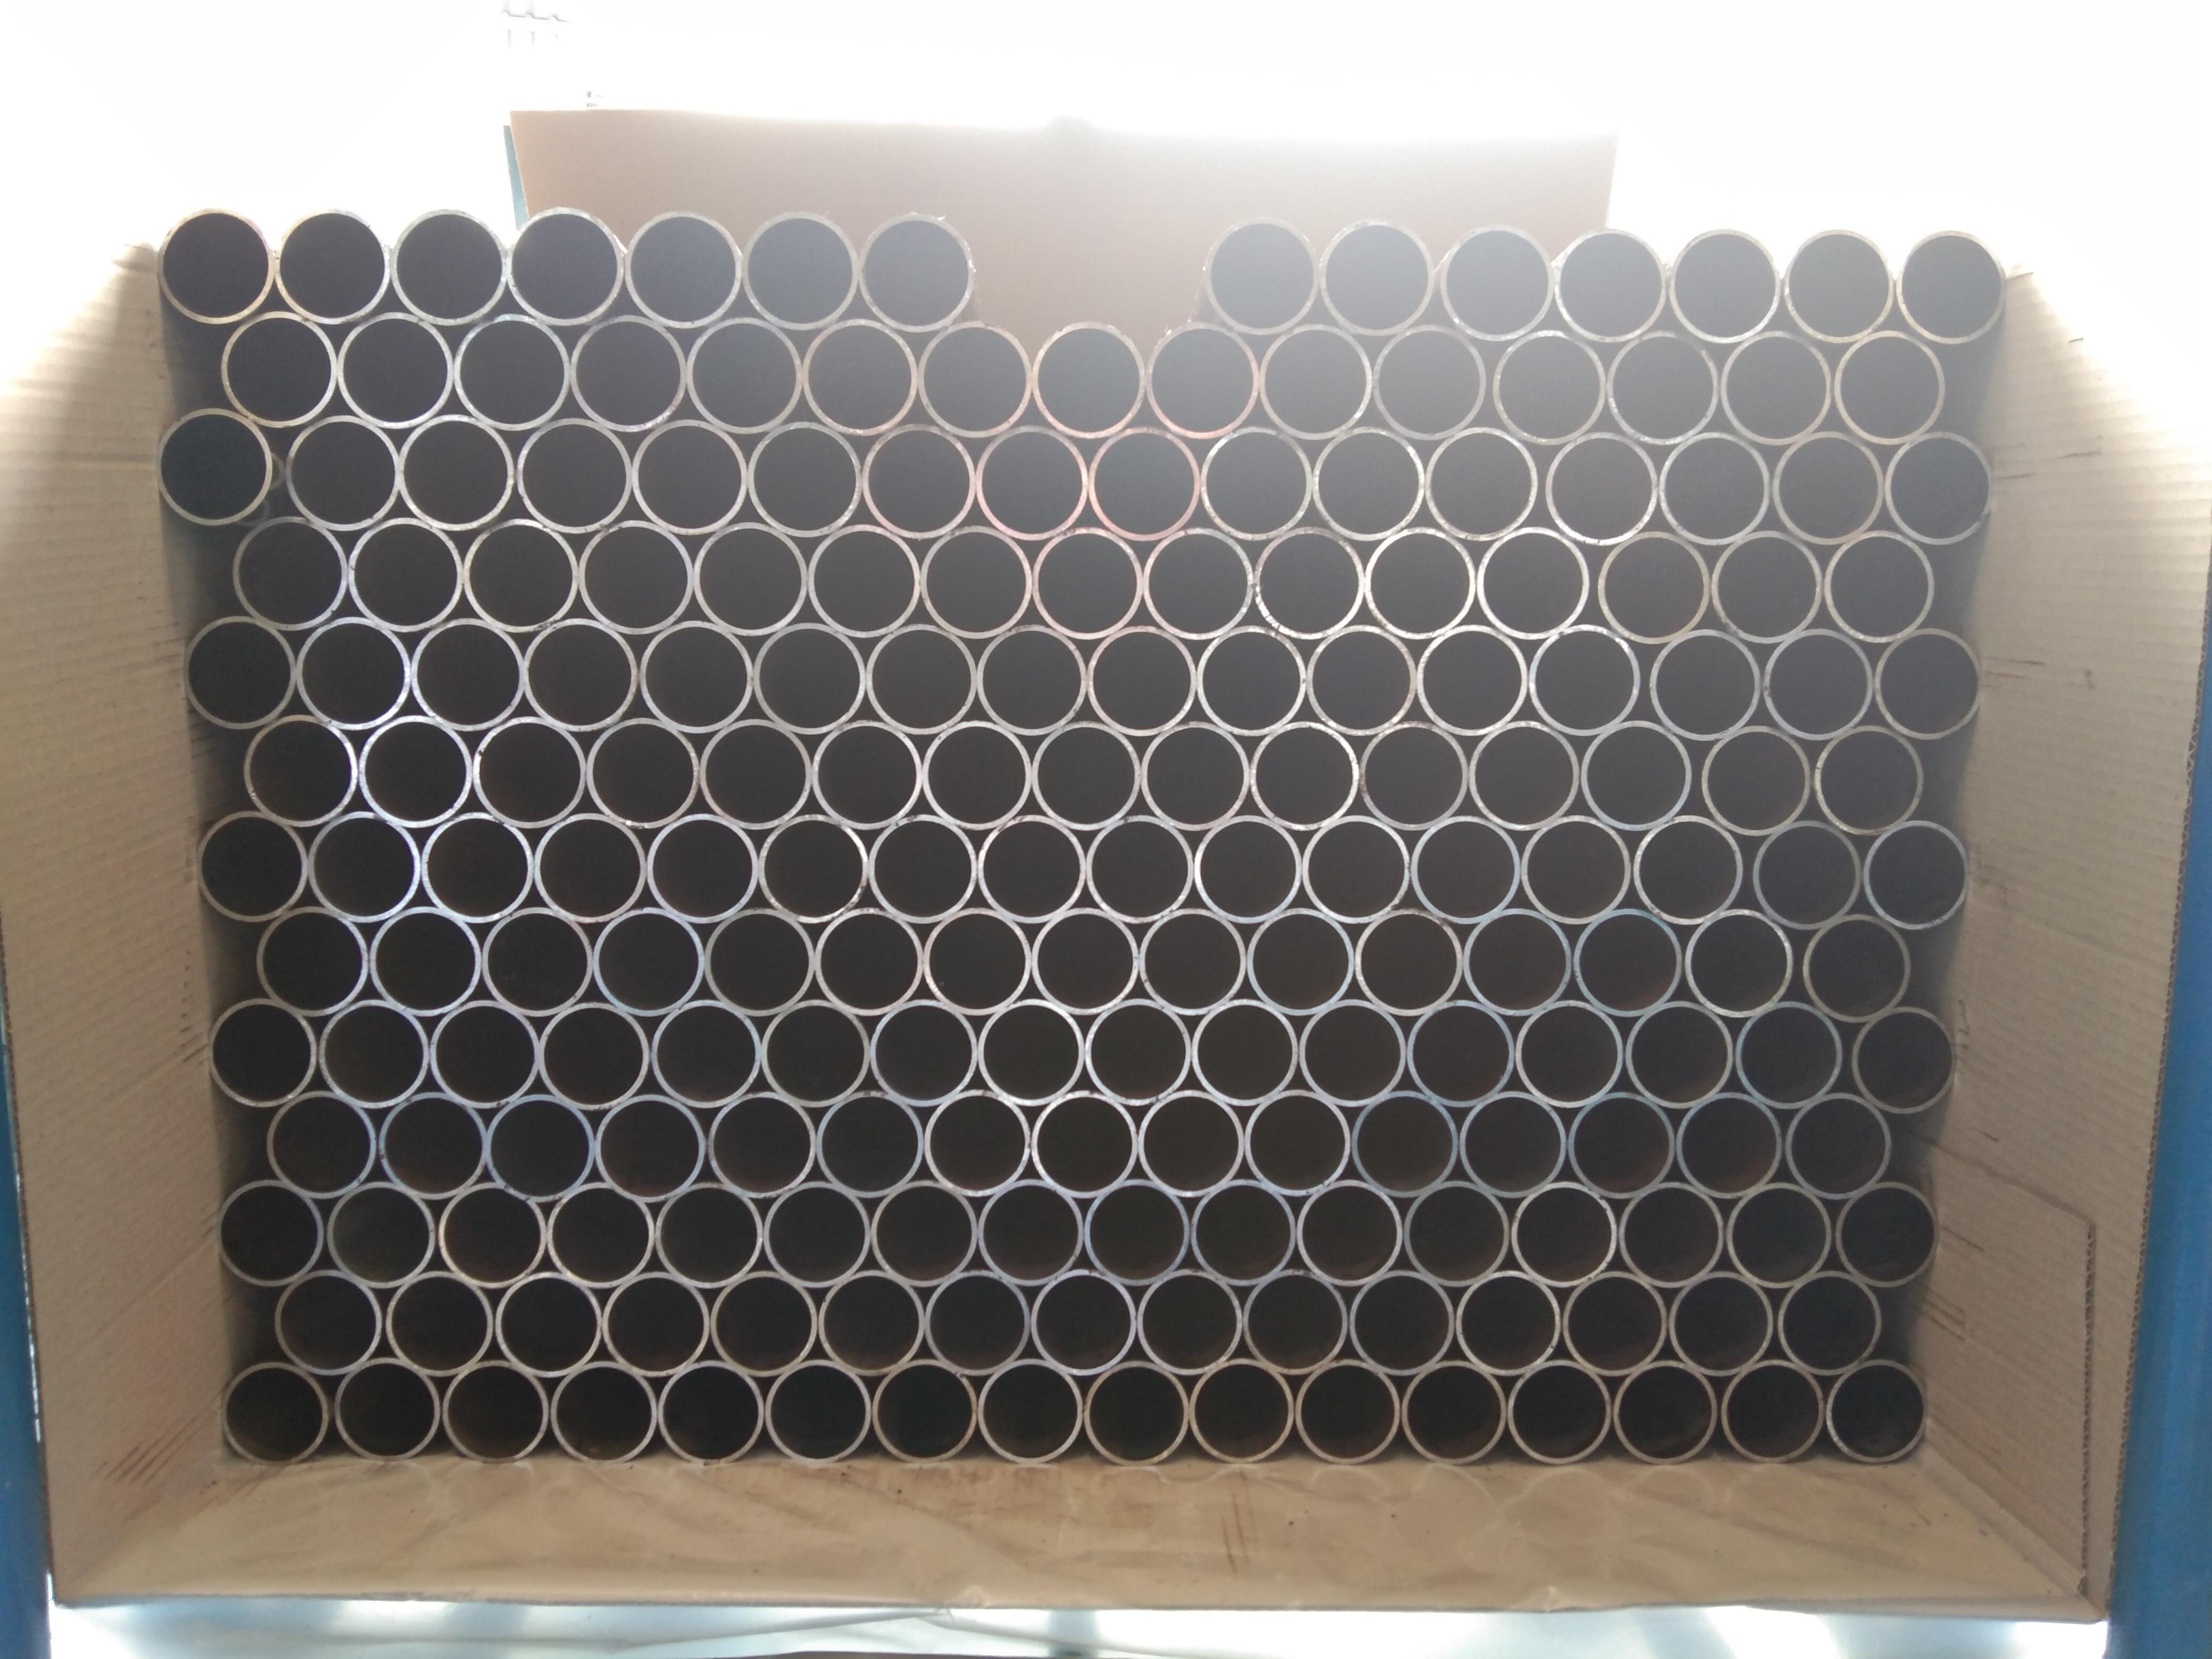pipe: (505, 204, 627, 328), (218, 307, 341, 429), (568, 308, 688, 434), (153, 410, 282, 526), (451, 310, 573, 432), (1369, 321, 1491, 443), (397, 411, 519, 533), (272, 202, 394, 324), (799, 314, 920, 437), (855, 213, 979, 333), (859, 418, 979, 542), (390, 202, 510, 326), (685, 312, 803, 437), (914, 319, 1036, 439), (1487, 326, 1609, 446), (1256, 319, 1376, 441), (1716, 326, 1836, 448), (280, 411, 402, 532), (1202, 214, 1322, 335), (1421, 423, 1541, 544), (690, 519, 810, 640), (462, 516, 582, 636), (1308, 422, 1426, 544), (622, 209, 744, 328), (1315, 218, 1437, 336), (1665, 221, 1784, 343), (1548, 225, 1670, 343), (631, 416, 749, 537), (740, 211, 860, 329), (1604, 326, 1723, 446), (521, 615, 641, 734), (336, 308, 455, 429), (155, 204, 275, 322), (1433, 223, 1555, 340), (1780, 221, 1897, 343), (577, 518, 695, 636), (347, 514, 465, 633), (1541, 429, 1662, 545), (516, 415, 632, 535), (745, 418, 862, 538), (806, 521, 923, 641), (1144, 319, 1261, 439), (232, 512, 348, 633), (1592, 530, 1714, 645), (1087, 422, 1202, 544), (1893, 223, 2008, 345), (1656, 429, 1773, 547), (1770, 429, 1886, 547), (637, 619, 756, 735), (409, 613, 526, 732), (1031, 321, 1148, 439), (1474, 526, 1594, 641), (974, 422, 1089, 542), (1198, 422, 1313, 542), (1362, 525, 1479, 641), (1251, 525, 1367, 641), (470, 714, 589, 829), (357, 713, 475, 828), (305, 809, 423, 924), (1141, 525, 1256, 643), (1831, 328, 1946, 446), (1029, 523, 1144, 641), (1644, 627, 1764, 741), (1710, 528, 1825, 645), (752, 619, 867, 735), (864, 620, 979, 737), (294, 615, 411, 730), (418, 809, 536, 922), (920, 523, 1033, 641), (1526, 624, 1646, 735), (1305, 622, 1420, 737), (531, 810, 648, 924), (1820, 530, 1937, 643), (585, 716, 702, 829), (975, 622, 1089, 739), (1578, 720, 1696, 831), (179, 617, 300, 727), (1761, 627, 1876, 741), (810, 718, 925, 831), (698, 716, 813, 829), (244, 713, 359, 826), (1085, 622, 1198, 737), (479, 904, 596, 1016), (1696, 723, 1813, 835), (1811, 723, 1925, 836), (1416, 622, 1529, 735), (1195, 624, 1308, 737), (702, 904, 817, 1016), (536, 999, 651, 1110), (1883, 430, 1994, 545), (1681, 908, 1797, 1018), (1749, 819, 1865, 929), (1467, 720, 1583, 829), (648, 999, 765, 1108), (315, 999, 432, 1108), (1355, 721, 1472, 831), (254, 906, 371, 1016), (1629, 816, 1747, 924), (1872, 626, 1984, 739), (756, 812, 869, 924), (646, 812, 759, 924), (866, 812, 979, 924), (1139, 720, 1252, 831), (920, 720, 1033, 831), (1519, 814, 1634, 924), (1460, 906, 1575, 1016), (1797, 913, 1912, 1023), (1409, 814, 1524, 924), (368, 904, 482, 1014), (1249, 720, 1360, 831), (1031, 720, 1143, 831), (592, 906, 705, 1016), (705, 1089, 819, 1199), (1299, 814, 1413, 924), (1674, 1091, 1787, 1201), (867, 997, 981, 1107), (707, 1269, 820, 1378), (1623, 999, 1737, 1108), (206, 997, 319, 1107), (594, 1093, 709, 1201), (1571, 908, 1686, 1016), (1731, 1000, 1846, 1108), (195, 810, 310, 918), (324, 1180, 439, 1288), (1512, 999, 1627, 1107), (813, 906, 925, 1016), (1083, 997, 1195, 1107), (428, 999, 540, 1108), (1085, 814, 1197, 924), (1559, 1269, 1670, 1378), (975, 814, 1087, 924), (1298, 997, 1409, 1107), (273, 1267, 385, 1377), (1564, 1091, 1677, 1199), (484, 1093, 597, 1201), (376, 1091, 489, 1199), (1348, 1089, 1461, 1197), (1029, 1267, 1139, 1377), (1193, 814, 1303, 924), (923, 1267, 1033, 1377), (1353, 906, 1465, 1014), (653, 1180, 765, 1288), (1029, 906, 1141, 1014), (1782, 1093, 1893, 1201), (921, 906, 1033, 1014), (869, 1178, 981, 1286), (761, 1180, 873, 1288), (266, 1091, 378, 1199), (219, 1359, 331, 1467), (1294, 1178, 1406, 1286), (1188, 1178, 1299, 1286), (921, 1087, 1033, 1195), (1406, 999, 1517, 1107), (543, 1182, 657, 1288), (1846, 1006, 1959, 1112), (383, 1270, 496, 1377), (1400, 1180, 1514, 1286), (817, 1269, 927, 1377), (815, 1089, 925, 1197), (1137, 906, 1247, 1014), (1245, 906, 1355, 1014), (977, 997, 1085, 1107), (1458, 1091, 1568, 1199), (1029, 1089, 1139, 1197), (1191, 997, 1299, 1107), (977, 1178, 1087, 1286), (1616, 1180, 1726, 1288), (1242, 1267, 1350, 1377), (1346, 1269, 1456, 1377), (1136, 1267, 1244, 1377), (216, 1178, 326, 1286), (493, 1270, 604, 1377), (1860, 821, 1972, 927), (1724, 1182, 1836, 1288), (759, 999, 871, 1105), (1508, 1180, 1620, 1286), (603, 1270, 711, 1378), (1083, 1358, 1191, 1466), (1454, 1269, 1562, 1377), (1777, 1269, 1885, 1377), (437, 1182, 547, 1288), (1667, 1270, 1777, 1377), (1244, 1089, 1353, 1195), (1137, 1089, 1247, 1195), (439, 1358, 550, 1462), (1190, 1356, 1296, 1464), (1832, 1182, 1940, 1288), (1613, 1358, 1721, 1464), (1294, 1358, 1402, 1464), (1507, 1358, 1615, 1464), (1719, 1358, 1827, 1464), (1083, 1178, 1191, 1284), (331, 1356, 442, 1459), (1402, 1358, 1508, 1464), (871, 1358, 979, 1462), (657, 1359, 766, 1462), (977, 1358, 1083, 1462), (1825, 1358, 1930, 1464), (550, 1359, 658, 1462), (765, 1359, 873, 1462)
